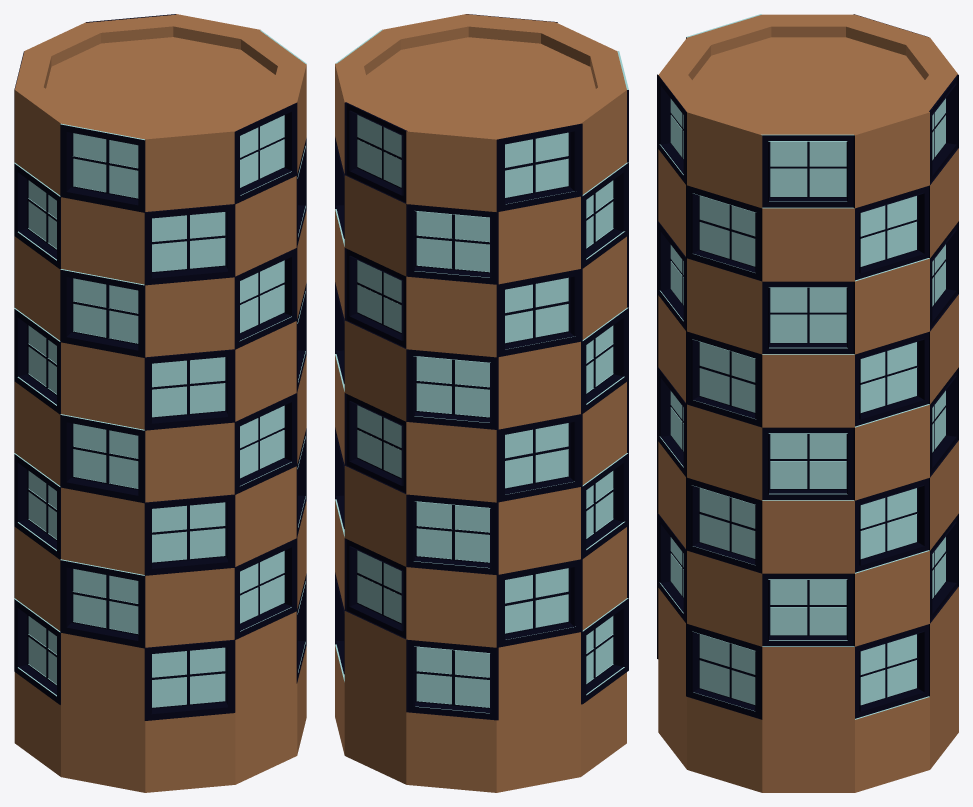
Rendered from Circle DBrown.fbx.
3 renders of one model, left to right at view 1: azimuth 30°, elevation 25°; view 2: azimuth 150°, elevation 25°; view 3: azimuth 270°, elevation 25°, orthographic.
Parts seen in each view (by area): view 1: Cylinder.002; view 2: Cylinder.002; view 3: Cylinder.002.
Part boxes in pixels (x1=…): Cylinder.002: x1=14, y1=14, x2=306, y2=792; Cylinder.002: x1=335, y1=14, x2=628, y2=792; Cylinder.002: x1=657, y1=14, x2=958, y2=792.
Size of the model in its own units: 1689 by 4266 by 1774.
